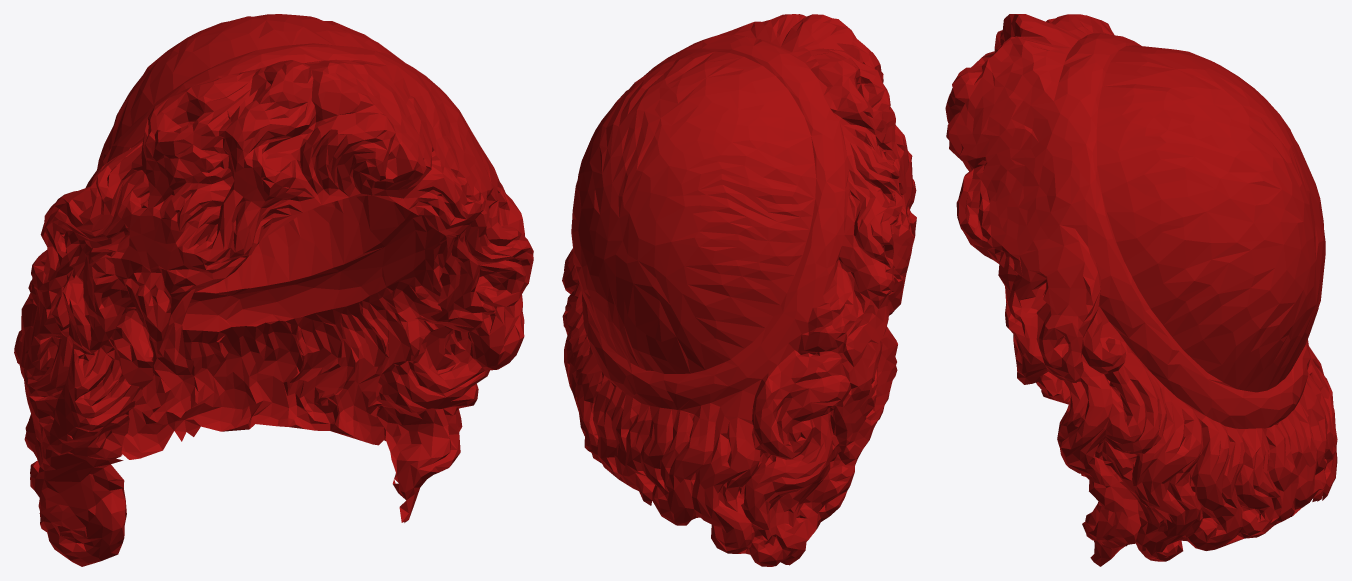
The model's file is hair_red.obj.
3 views of the same model, side by side, from view 1: azimuth 30°, elevation 25°; view 2: azimuth 150°, elevation 25°; view 3: azimuth 270°, elevation 25° (orthographic). The views are drawn at different scales.
Parts seen in each view (by area): view 1: hair_red_hair_red_helios_20140908_Alexander_as_Helios_by_Cosmo_W; view 2: hair_red_hair_red_helios_20140908_Alexander_as_Helios_by_Cosmo_W; view 3: hair_red_hair_red_helios_20140908_Alexander_as_Helios_by_Cosmo_W.
Boxes of the visible parts, <box> form: hair_red_hair_red_helios_20140908_Alexander_as_Helios_by_Cosmo_W: <box>14,14,533,566</box>; hair_red_hair_red_helios_20140908_Alexander_as_Helios_by_Cosmo_W: <box>562,14,916,566</box>; hair_red_hair_red_helios_20140908_Alexander_as_Helios_by_Cosmo_W: <box>945,14,1337,566</box>.
Bounding box in the file's own units: 67.94 × 84.7 × 57.75.
